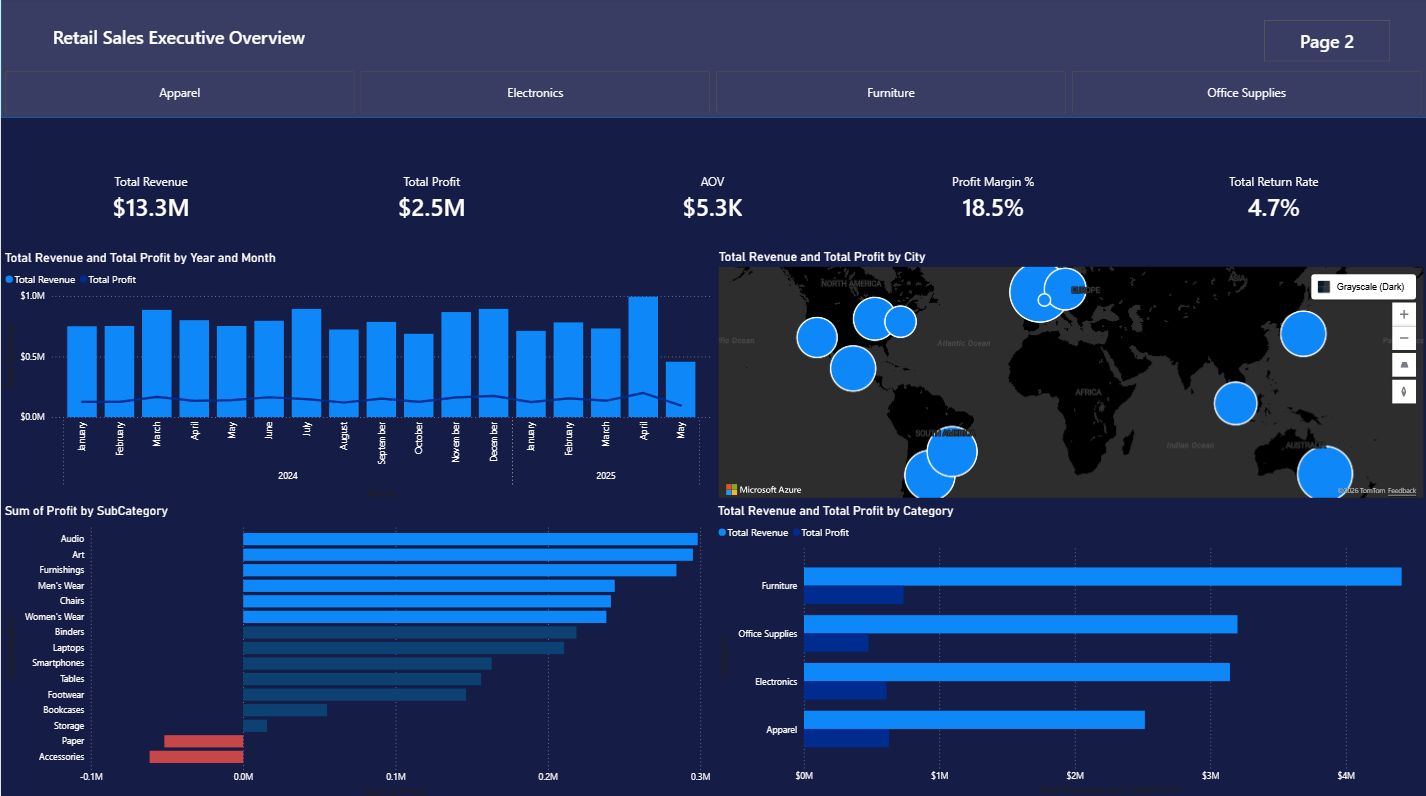

This screenshot's page, from the dashboard's own definition file:
{"tool":"powerbi","page":{"name":"Page 1","canvas":[1920,1080],"ordinal":0},"visuals":[{"type":"shape","box":[0,0,1920,163],"z":0},{"type":"lineClusteredColumnComboChart","fields":{"Category":["fact_orders.OrderDate.Variation.Date Hierarchy.Year","fact_orders.OrderDate.Variation.Date Hierarchy.Month"],"Y":["_Measures.Total Revenue"],"Y2":["_Measures.Total Profit"]},"box":[0,340.4,960.8,340.4],"z":1000},{"type":"clusteredBarChart","fields":{"Category":["dim_products.Category"],"Y":["_Measures.Total Revenue","_Measures.Total Profit"]},"box":[960.8,680.7,959.2,399.2],"z":2000},{"type":"cardVisual","fields":{"Data":["_Measures.Total Revenue","_Measures.Total Profit","_Measures.AOV","_Measures.Profit Margin %","_Measures.Return Rate %"]},"box":[0,197.4,1920,143.1],"z":3000},{"type":"clusteredBarChart","fields":{"Category":["dim_products.SubCategory"],"Y":["Sum(fact_order_details.Profit)"]},"box":[0,680.7,960.8,400.7],"z":4000},{"type":"pageNavigator","box":[1700.8,30.8,170.3,56.2],"z":5000},{"type":"azureMap","fields":{"Category":["dim_customers.City"],"Size":["_Measures.Total Revenue"]},"box":[961,340,959,340],"z":6000},{"type":"textbox","box":[65.2,32.6,452,54],"z":7000},{"type":"advancedSlicerVisual","fields":{"Values":["dim_products.Category"]},"box":[0,94.2,1920,68.8],"z":9000}]}

Visuals, with their boxes in screenshot pixels (x1, y1, x2, y2), scaled from the page's 1920x1080 canvas onto the 1426x796 screenshot:
shape: 0, 0, 1425, 120
lineClusteredColumnComboChart - fact_orders.OrderDate.Variation.Date Hierarchy.Year x fact_orders.OrderDate.Variation.Date Hierarchy.Month: 0, 251, 714, 502
clusteredBarChart - dim_products.Category x _Measures.Total Revenue: 714, 502, 1425, 795
cardVisual - _Measures.Total Revenue x _Measures.Total Profit: 0, 145, 1425, 251
clusteredBarChart - dim_products.SubCategory x Sum(fact_order_details.Profit): 0, 502, 714, 795
pageNavigator: 1263, 23, 1390, 64
azureMap - dim_customers.City x _Measures.Total Revenue: 714, 251, 1425, 501
textbox: 48, 24, 384, 64
advancedSlicerVisual - dim_products.Category: 0, 69, 1425, 120
